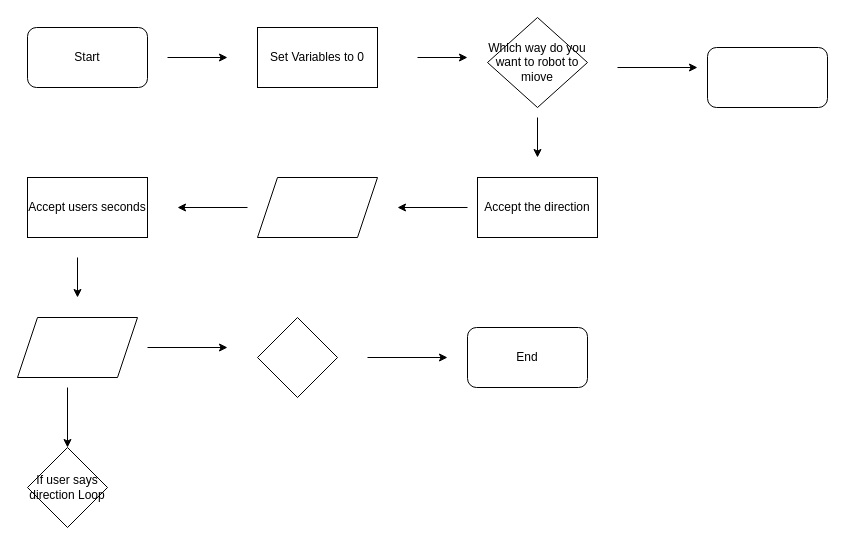
This 845x545 diagram has some shape labels left out. The shapes that lost their labels are listed below. From the top down, each one's box as (x1, y1, x2, y2) in pixels, then its label:
(706, 46, 828, 108): Don't want it to move
(256, 176, 378, 238): How many second do you want the robots to move
(16, 316, 138, 378): Where do you want the robot to move next
(256, 316, 338, 398): If how user says noWhere
